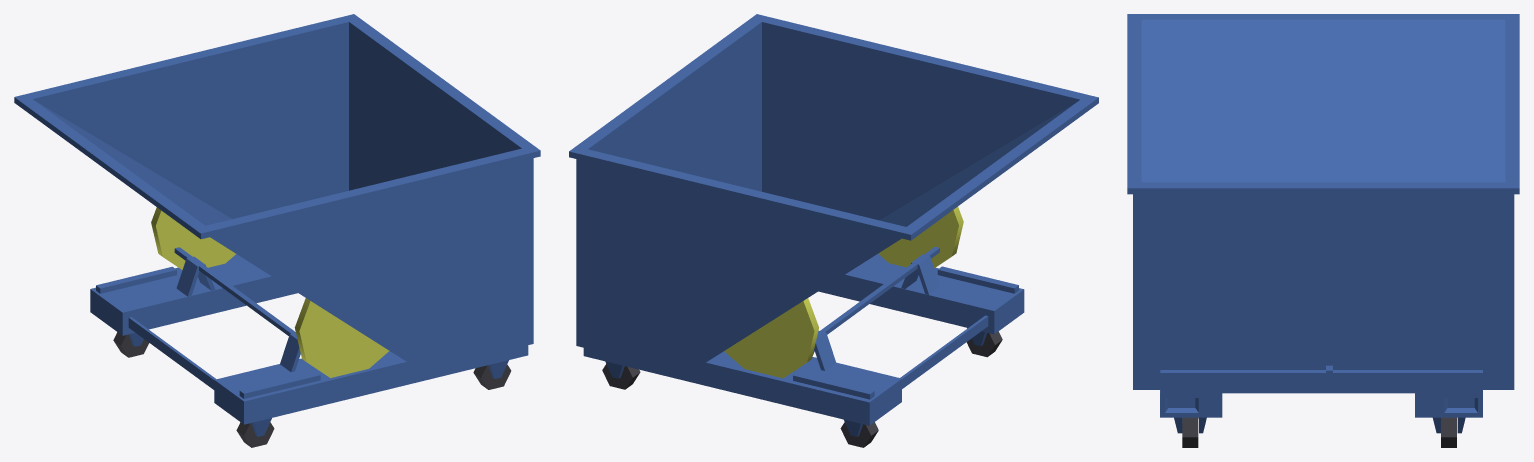
File: SM_Container_03.fbx
3 renders of one model, left to right at view 1: azimuth 30°, elevation 25°; view 2: azimuth 150°, elevation 25°; view 3: azimuth 270°, elevation 25°, orthographic. The views are drawn at different scales.
Visible parts, largest first — view 1: SM_Container_03; view 2: SM_Container_03; view 3: SM_Container_03.
Boxes of the visible parts, <box> form: SM_Container_03: <box>14,14,540,447</box>; SM_Container_03: <box>569,14,1098,447</box>; SM_Container_03: <box>1127,14,1519,447</box>.
Size of the model in its own units: 153 by 107 by 143.
